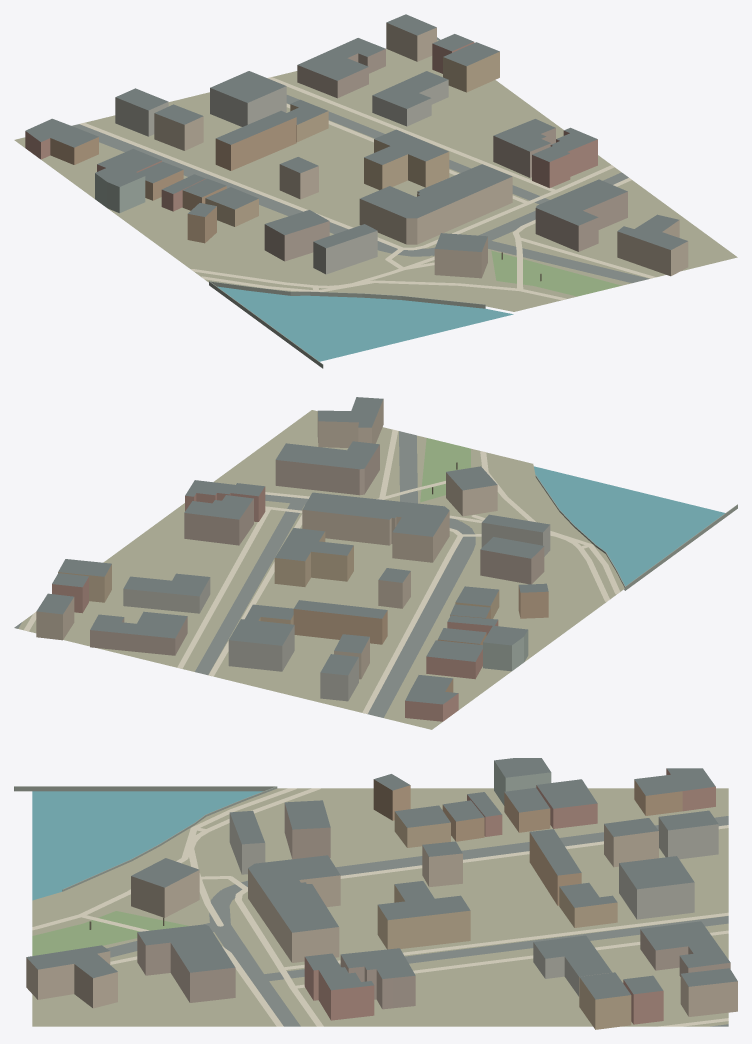
The model's file is sector--4_-7.glb.
3 renders of one model, top to bottom at view 1: azimuth 30°, elevation 25°; view 2: azimuth 150°, elevation 25°; view 3: azimuth 270°, elevation 25°, orthographic. The views are drawn at different scales.
Parts seen in each view (by area): view 1: -4:-7-ground, -4:-7-facade, -4:-7-roof, -4:-7-water, -4:-7-paving, -4:-7-road, -4:-7-park, -4:-7-bank; view 2: -4:-7-ground, -4:-7-facade, -4:-7-roof, -4:-7-water, -4:-7-road, -4:-7-paving, -4:-7-park, -4:-7-bank; view 3: -4:-7-ground, -4:-7-facade, -4:-7-roof, -4:-7-water, -4:-7-paving, -4:-7-road, -4:-7-park, -4:-7-bank.
Boxes of the visible parts, <box> form: -4:-7-ground: <box>14,40,737,311</box>; -4:-7-facade: <box>25,22,688,278</box>; -4:-7-roof: <box>25,14,687,251</box>; -4:-7-water: <box>217,286,513,361</box>; -4:-7-paving: <box>79,77,655,300</box>; -4:-7-road: <box>72,37,649,282</box>; -4:-7-park: <box>491,250,621,296</box>; -4:-7-bank: <box>209,281,485,368</box>; -4:-7-ground: <box>18,410,624,729</box>; -4:-7-facade: <box>36,399,550,721</box>; -4:-7-roof: <box>37,397,549,704</box>; -4:-7-water: <box>534,466,724,585</box>; -4:-7-road: <box>14,431,475,717</box>; -4:-7-paving: <box>24,429,620,713</box>; -4:-7-park: <box>420,438,470,502</box>; -4:-7-bank: <box>535,475,737,590</box>; -4:-7-ground: <box>32,788,728,1026</box>; -4:-7-facade: <box>26,761,737,1029</box>; -4:-7-roof: <box>26,758,737,999</box>; -4:-7-water: <box>32,791,262,900</box>; -4:-7-paving: <box>32,788,728,1026</box>; -4:-7-road: <box>107,816,728,1026</box>; -4:-7-park: <box>32,911,188,955</box>; -4:-7-bank: <box>14,786,277,891</box>.
Bounding box in the file's own units: 164 × 10.45 × 208.
